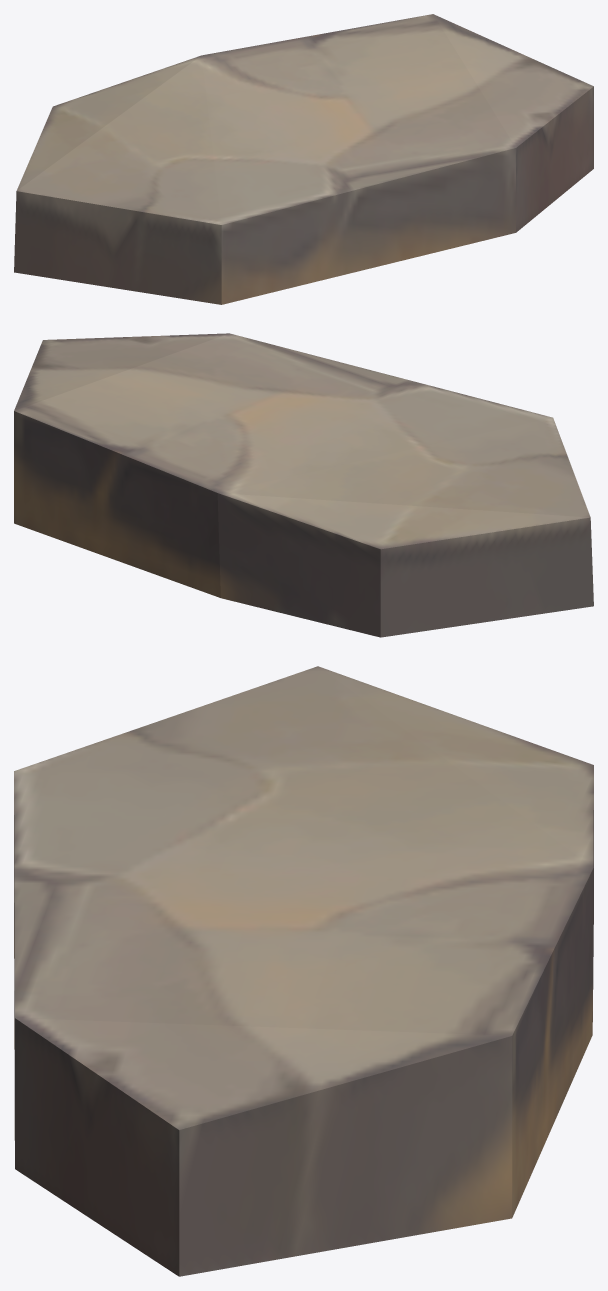
Rendered from map_7004_tz_02.FBX.
3 renders of one model, top to bottom at view 1: azimuth 30°, elevation 25°; view 2: azimuth 150°, elevation 25°; view 3: azimuth 270°, elevation 25°, orthographic. The views are drawn at different scales.
Visible parts, largest first — view 1: map_7004_tz_02; view 2: map_7004_tz_02; view 3: map_7004_tz_02.
Boxes of the visible parts, left/top/right/bottom form: map_7004_tz_02: left=14, top=14, right=593, bottom=304; map_7004_tz_02: left=14, top=333, right=593, bottom=637; map_7004_tz_02: left=14, top=666, right=593, bottom=1276.
Bounding box in the file's own units: 5.1 × 0.9246 × 2.66.
